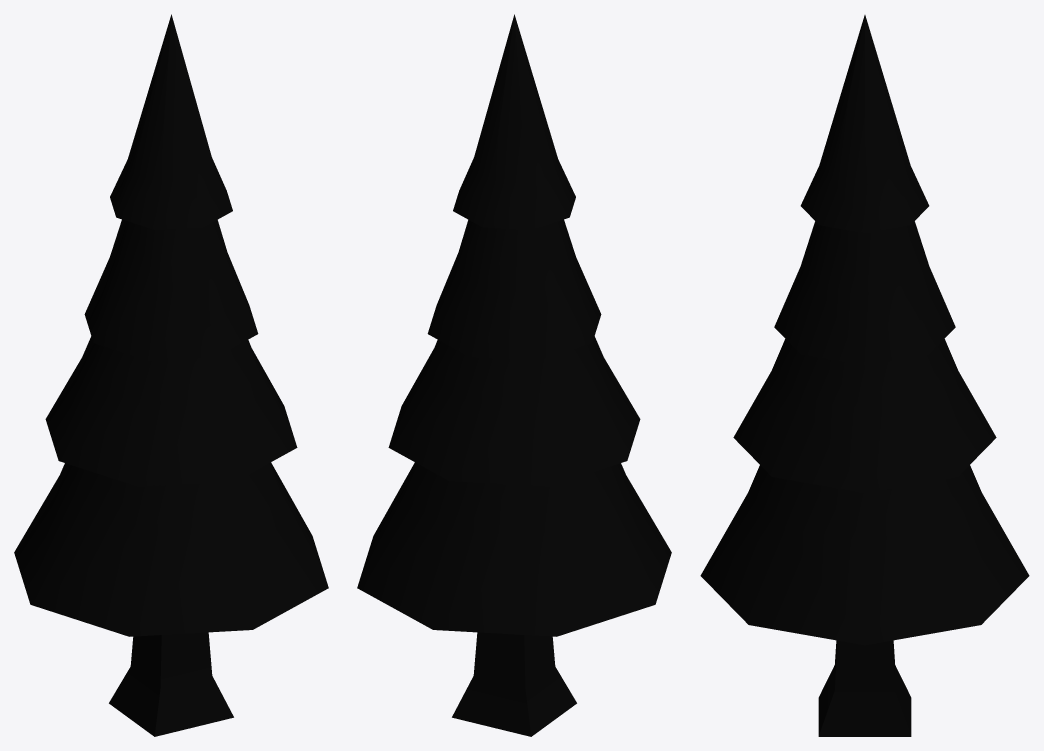
Rendered from tree.glb.
3 renders of one model, left to right at view 1: azimuth 30°, elevation 25°; view 2: azimuth 150°, elevation 25°; view 3: azimuth 270°, elevation 25°, orthographic.
Visible parts, largest first — view 1: tree; view 2: tree; view 3: tree.
Boxes of the visible parts, x1,y1,x2,y2 form: tree: [14, 14, 328, 736]; tree: [357, 14, 671, 736]; tree: [700, 15, 1029, 736].
Bounding box in the file's own units: 1.02 × 2.41 × 1.02.
Materials: 1 (1 with a texture image).
